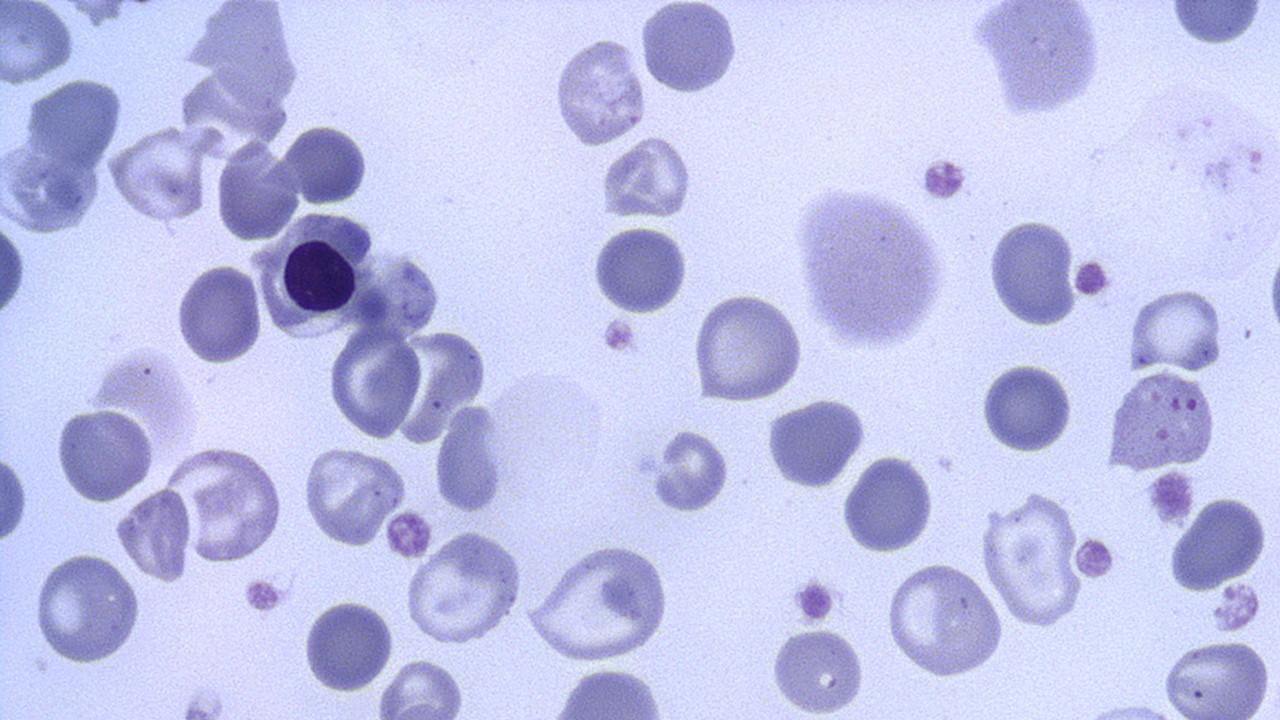Platelets: (1146, 468, 1194, 526), (790, 572, 842, 624)
RBC: (790, 179, 949, 356), (523, 541, 673, 663), (971, 0, 1105, 122), (978, 487, 1087, 630), (882, 559, 1006, 679), (403, 530, 525, 647), (170, 446, 287, 567), (691, 289, 807, 404), (31, 550, 143, 667), (1103, 369, 1219, 472), (550, 34, 649, 149), (1165, 492, 1273, 596), (324, 326, 422, 440), (300, 446, 407, 550), (986, 216, 1080, 330), (52, 404, 157, 506), (0, 137, 106, 236), (839, 452, 938, 556), (764, 395, 870, 492), (107, 127, 208, 227), (764, 624, 870, 718), (638, 0, 739, 98), (977, 358, 1077, 456), (21, 77, 127, 169), (301, 594, 396, 696), (1159, 635, 1277, 717), (589, 223, 692, 316), (174, 261, 264, 365), (214, 137, 302, 243), (351, 243, 446, 340), (1125, 287, 1227, 375), (432, 401, 506, 516), (598, 135, 696, 221), (115, 484, 193, 586), (649, 426, 733, 515), (289, 122, 369, 207), (0, 0, 76, 88), (281, 234, 356, 315), (374, 654, 469, 717), (1166, 1, 1266, 50), (0, 204, 30, 336), (0, 440, 31, 552)
